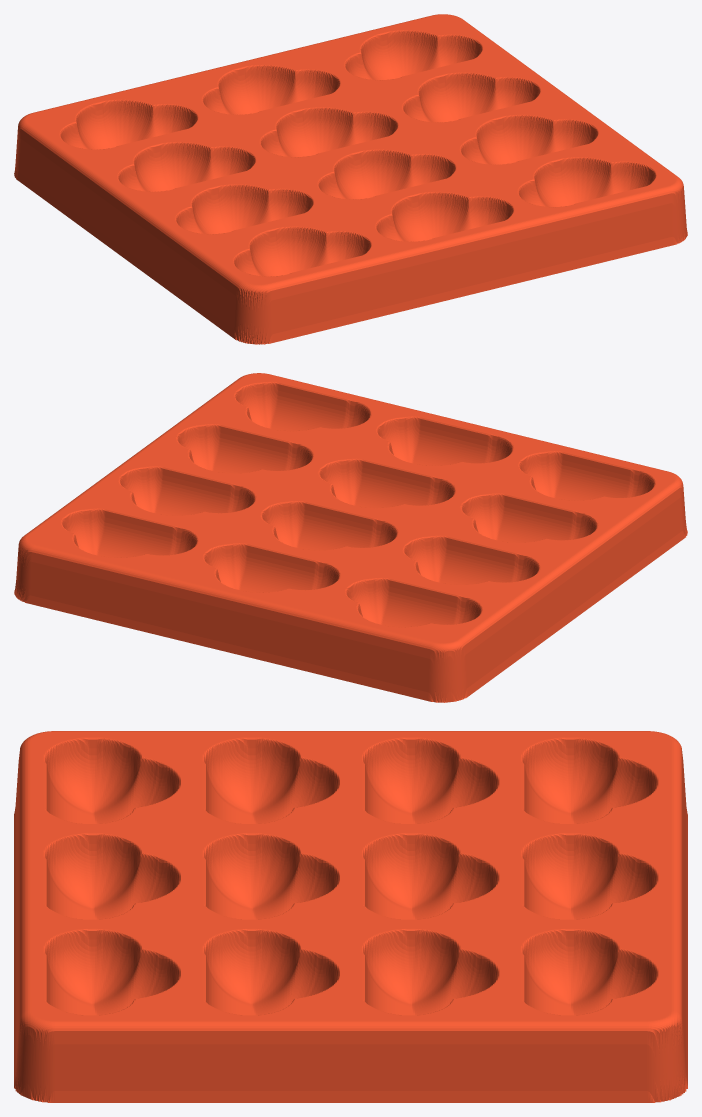
Rendered from mold.glb.
3 views of the same model, one above another, from view 1: azimuth 30°, elevation 25°; view 2: azimuth 150°, elevation 25°; view 3: azimuth 270°, elevation 25° (orthographic). The views are drawn at different scales.
Parts seen in each view (by area): view 1: geometry_0; view 2: geometry_0; view 3: geometry_0.
Boxes of the visible parts, <box> form: geometry_0: <box>14,14,687,344</box>; geometry_0: <box>14,373,687,702</box>; geometry_0: <box>14,731,687,1102</box>.
Size of the model in its own units: 0.1598 by 0.0185 by 0.1504.
